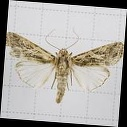Spodoptera litura: (5, 28, 123, 105)
